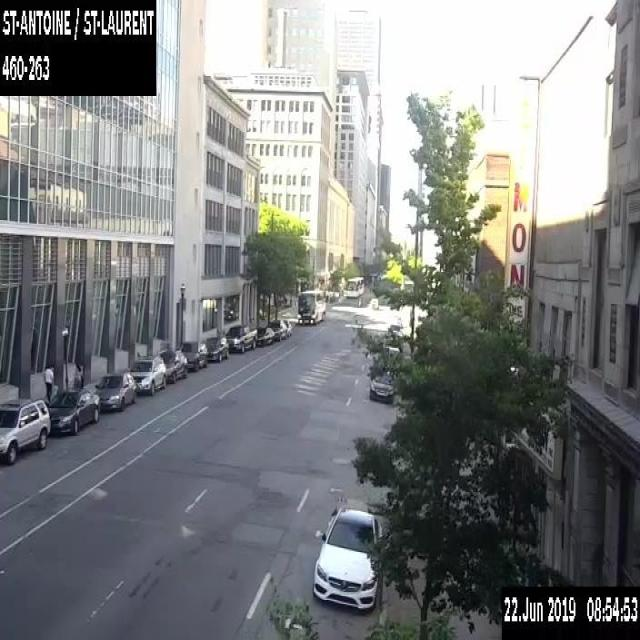bus: (296, 286, 326, 322), (344, 276, 366, 299)
pedestrian: (42, 362, 54, 398), (72, 361, 82, 386)
vehicle: (311, 501, 380, 611), (0, 396, 50, 465), (48, 386, 99, 433), (94, 371, 136, 412), (128, 353, 167, 395), (158, 348, 188, 382), (368, 374, 397, 406), (179, 338, 207, 371), (225, 323, 257, 351), (206, 335, 228, 362), (255, 324, 274, 346), (269, 318, 286, 341), (387, 317, 403, 334), (283, 318, 292, 336), (369, 296, 378, 308)
